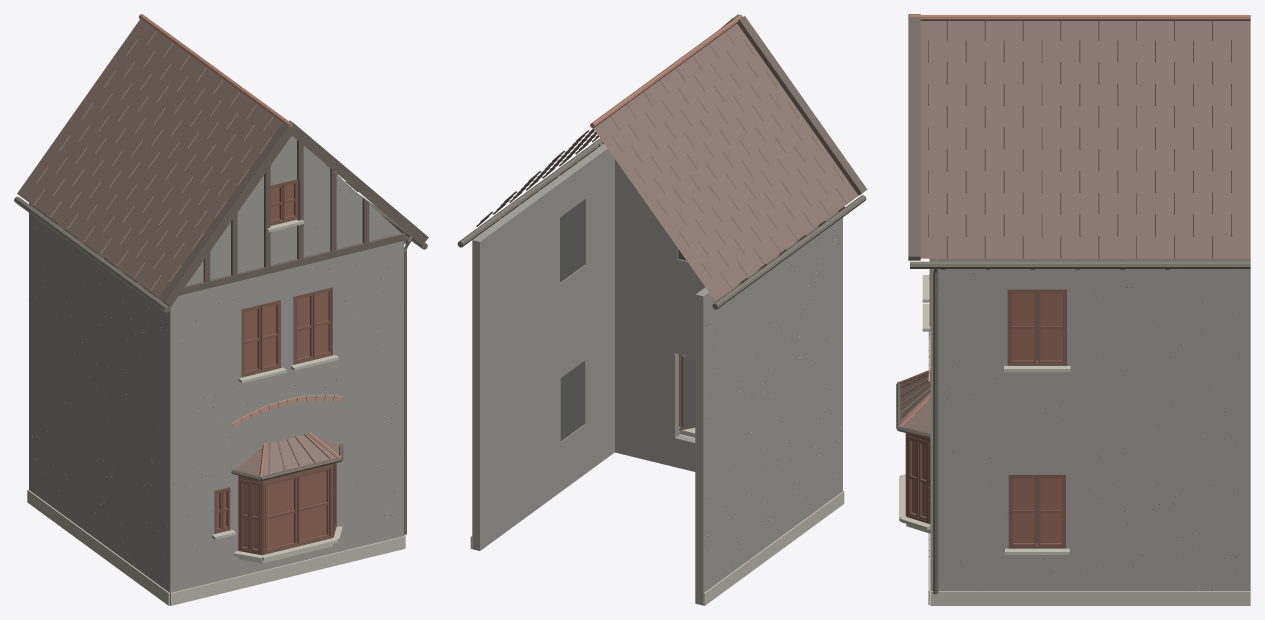
Rendered from huangpu-gaolan-17-garden-house-street-gable-lod.glb.
The picture shows the model from 3 angles, left to right: view 1: azimuth 30°, elevation 25°; view 2: azimuth 150°, elevation 25°; view 3: azimuth 270°, elevation 25°; orthographic projection. The views are drawn at different scales.
Parts seen in each view (by area): view 1: 皋兰路17号花园住宅临街灰卵石山墙与折窗; view 2: 皋兰路17号花园住宅临街灰卵石山墙与折窗; view 3: 皋兰路17号花园住宅临街灰卵石山墙与折窗.
Boxes of the visible parts, box(x1,y1,x2,y2) form: 皋兰路17号花园住宅临街灰卵石山墙与折窗: box(14, 14, 428, 605); 皋兰路17号花园住宅临街灰卵石山墙与折窗: box(457, 14, 867, 605); 皋兰路17号花园住宅临街灰卵石山墙与折窗: box(896, 14, 1250, 605).
Bounding box in the file's own units: 6.64 × 11.07 × 6.8.
